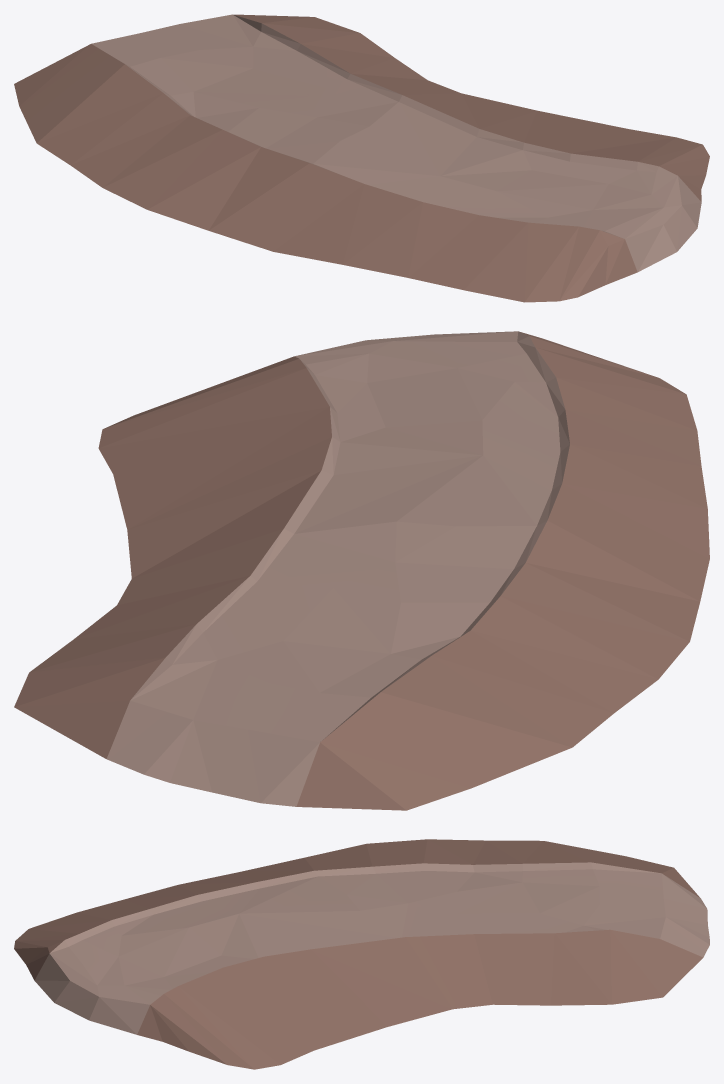
File: road_002.fbx
3 views of the same model, one above another, from view 1: azimuth 30°, elevation 25°; view 2: azimuth 150°, elevation 25°; view 3: azimuth 270°, elevation 25° (orthographic). The views are drawn at different scales.
Visible parts, largest first — view 1: road_002; view 2: road_002; view 3: road_002.
Part boxes in pixels (x1,y1,x2,y2): road_002: (14, 14, 709, 302); road_002: (14, 331, 709, 810); road_002: (14, 839, 709, 1069).
Bounding box in the file's own units: 3065 × 4053 × 271.
